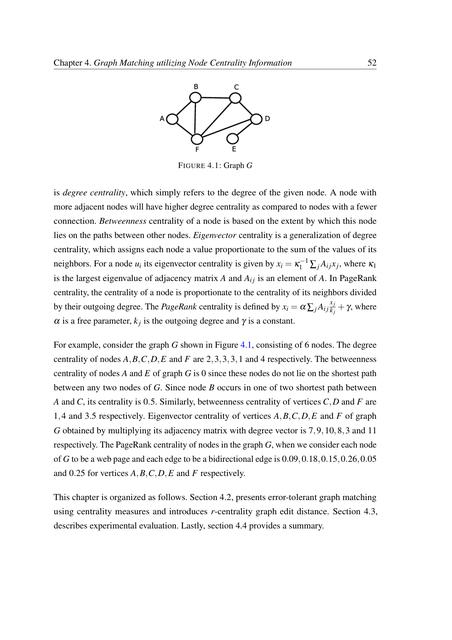box: (158, 81, 273, 174)
